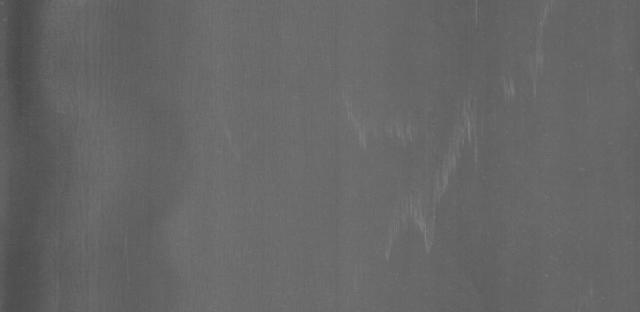silk_spot: (324, 47, 561, 257)
